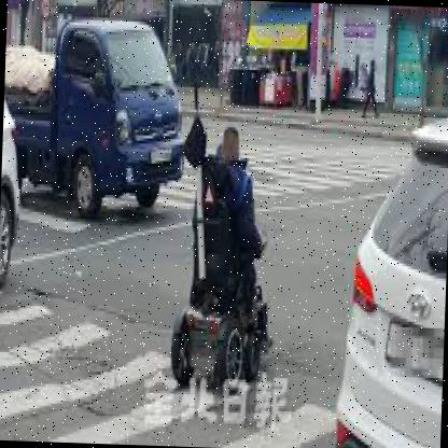wheel: (173, 126, 280, 383)
